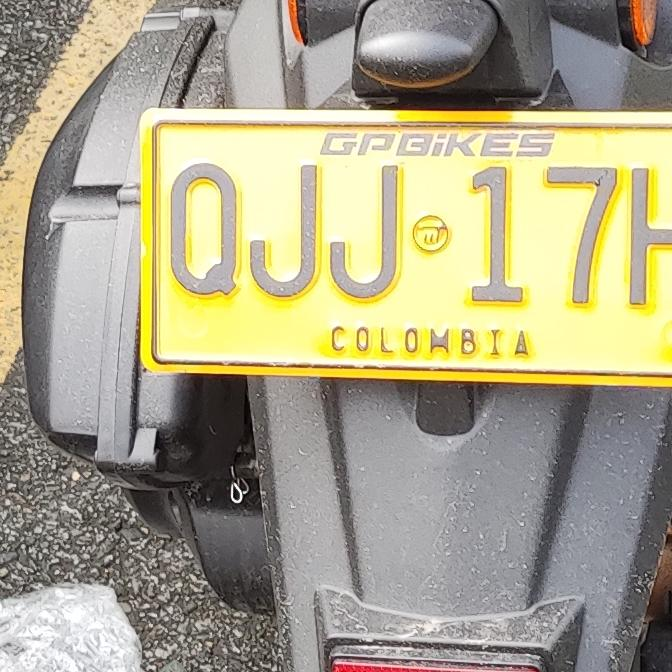plates: (134, 116, 672, 386)
